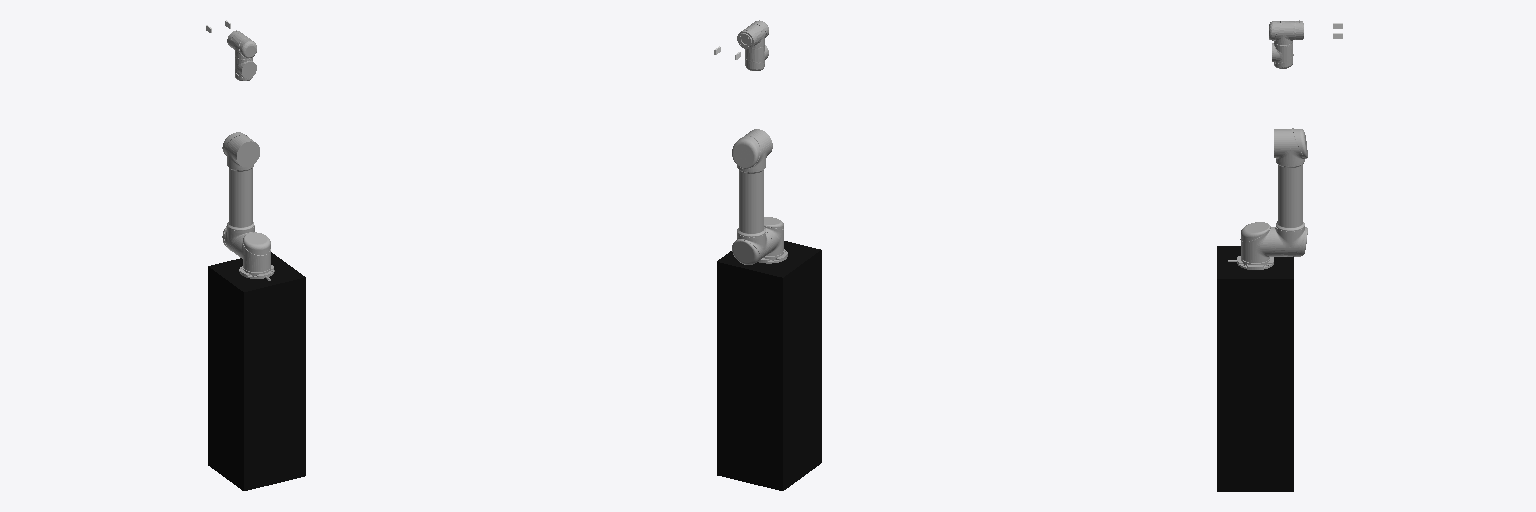
--- Facts derived from the render (not from the file) ---
Views: 3 orthographic renders of the robot side by side, from view 1: azimuth 30°, elevation 25°; view 2: azimuth 150°, elevation 25°; view 3: azimuth 270°, elevation 25°.
Robot: ur5 — 24 links, 23 joints (12 revolute, 11 fixed); root link base_link; default pose: all joints at 0.
Links seen in each view (by area): view 1: pedestal, upper_arm_link, shoulder_link; view 2: pedestal, upper_arm_link, shoulder_link; view 3: pedestal, upper_arm_link, shoulder_link, wrist_2_link.
Boxes of the visible links, x1,y1,x2,y2 form: pedestal: [208, 252, 305, 490]; upper_arm_link: [222, 132, 259, 254]; shoulder_link: [237, 232, 270, 271]; pedestal: [717, 241, 821, 490]; upper_arm_link: [732, 129, 772, 264]; shoulder_link: [764, 217, 783, 255]; pedestal: [1217, 246, 1293, 491]; upper_arm_link: [1274, 128, 1307, 256]; shoulder_link: [1240, 222, 1273, 262]; wrist_2_link: [1269, 21, 1295, 44].
Bounding box of the posed robot: 0.3 × 0.4905 × 1.96 m (x, y, z).
Meshes: 12 distinct files referenced, 7 mesh visuals loaded (7 Collada DAE); not drawn: 9 (reference not matched to a file when rendering).

The robot description file, URDF, robot "ur5":
<?xml version="1.0" ?>
<!-- =================================================================================== -->
<!-- |    This document was autogenerated by xacro from ur5_robot.urdf.xacro           | -->
<!-- |    EDITING THIS FILE BY HAND IS NOT RECOMMENDED                                 | -->
<!-- =================================================================================== -->
<robot name="ur5" xmlns:xacro="http://www.ros.org/wiki/xacro">
  <!-- common stuff -->
  <gazebo>
    <plugin filename="libgazebo_ros_control.so" name="ros_control">
      <!--robotNamespace>/</robotNamespace-->
      <!--robotSimType>gazebo_ros_control/DefaultRobotHWSim</robotSimType-->
    </plugin>
    <!--
    <plugin name="gazebo_ros_power_monitor_controller" filename="libgazebo_ros_power_monitor.so">
      <alwaysOn>true</alwaysOn>
      <updateRate>1.0</updateRate>
      <timeout>5</timeout>
      <powerStateTopic>power_state</powerStateTopic>
      <powerStateRate>10.0</powerStateRate>
      <fullChargeCapacity>87.78</fullChargeCapacity>
      <dischargeRate>-474</dischargeRate>
      <chargeRate>525</chargeRate>
      <dischargeVoltage>15.52</dischargeVoltage>
      <chargeVoltage>16.41</chargeVoltage>
    </plugin>
-->
  </gazebo>
  <!-- ur5 -->
  <!-- Inertia parameters -->
  <!-- This mass might be incorrect -->
  <!-- Kinematic model -->
  <!-- Properties from urcontrol.conf -->
  <!--
    DH for UR5:
    a = [0.00000, -0.42500, -0.39225,  0.00000,  0.00000,  0.0000]
    d = [0.089159,  0.00000,  0.00000,  0.10915,  0.09465,  0.0823]
    alpha = [ 1.570796327, 0, 0, 1.570796327, -1.570796327, 0 ]
    q_home_offset = [0, -1.570796327, 0, -1.570796327, 0, 0]
    joint_direction = [-1, -1, 1, 1, 1, 1]
    mass = [3.7000, 8.3930, 2.2750, 1.2190, 1.2190, 0.1879]
    center_of_mass = [ [0, -0.02561, 0.00193], [0.2125, 0, 0.11336], [0.11993, 0.0, 0.0265], [0, -0.0018, 0.01634], [0, 0.0018,0.01634], [0, 0, -0.001159] ]
  -->
  <!-- Arbitrary offsets for shoulder/elbow joints -->
  <!-- measured from model -->
  <!-- measured from model -->
  <!-- link lengths used in model -->
  <!--property name="shoulder_height" value="0.089159" /-->
  <!--property name="shoulder_offset" value="0.13585" /-->
  <!-- shoulder_offset - elbow_offset + wrist_1_length = 0.10915 -->
  <!--property name="upper_arm_length" value="0.42500" /-->
  <!--property name="elbow_offset" value="0.1197" /-->
  <!-- CAD measured -->
  <!--property name="forearm_length" value="0.39225" /-->
  <!--property name="wrist_1_length" value="0.093" /-->
  <!-- CAD measured -->
  <!--property name="wrist_2_length" value="0.09465" /-->
  <!-- In CAD this distance is 0.930, but in the spec it is 0.09465 -->
  <!--property name="wrist_3_length" value="0.0823" /-->
  <!-- manually measured -->
  <!-- manually measured -->
  <!-- manually measured -->
  <!-- manually measured -->
  <!-- manually measured -->
  <!-- arm -->
  <link name="base_link"/>
  <joint name="robot_base_joint" type="fixed">
    <parent link="base_link"/>
    <child link="robot_base_link"/>
    <origin rpy="0.0 0.0 0.0" xyz="0.0 0.0 0.92"/>
  </joint>

  <link name="pedestal">
    <visual>
      <origin xyz="0 0 0" rpy="0 0 0" />
      <geometry>
        <box size="0.3 0.3 0.92" />
      </geometry>
      <material name="Dark">
        <color rgba="0.1 0.1 0.1 1.0"/>
      </material>
    </visual>
    <collision>
      <origin xyz="0 0 0" rpy="0 0 0" />
      <geometry>
        <box size="0.3 0.3 0.92" />
      </geometry>
    </collision>
  </link>
  <joint name="pedestal_joint" type="fixed">
    <parent link="base_link"/>
    <child link="pedestal"/>
    <origin rpy="0.0 0.0 0.0" xyz="0.0 0.0 0.46"/>
  </joint>

  <link name="robot_base_link">
    <visual>
      <geometry>
        <mesh filename="package://ur5_description/meshes/visual/base.dae"/>
      </geometry>
      <material name="LightGrey">
        <color rgba="0.7 0.7 0.7 1.0"/>
      </material>
    </visual>
    <collision>
      <geometry>
        <mesh filename="package://ur5_description/meshes/collision/base.dae"/>
      </geometry>
    </collision>
    <inertial>
      <mass value="4.0"/>
      <origin rpy="0 0 0" xyz="0.0 0.0 0.0"/>
      <inertia ixx="0.00443333156" ixy="0.0" ixz="0.0" iyy="0.00443333156" iyz="0.0" izz="0.0072"/>
    </inertial>
  </link>
  <joint name="shoulder_pan_joint" type="revolute">
    <parent link="robot_base_link"/>
    <child link="shoulder_link"/>
    <origin rpy="0.0 0.0 0.0" xyz="0.0 0.0 0.089159"/>
    <axis xyz="0 0 1"/>
    <limit effort="150.0" lower="-6.2831853" upper="6.2831853" velocity="3.15"/>
    <dynamics damping="0.0" friction="0.0"/>
  </joint>
  <link name="shoulder_link">
    <visual>
      <geometry>
        <mesh filename="package://ur5_description/meshes/visual/shoulder.dae"/>
      </geometry>
      <material name="LightGrey">
        <color rgba="0.7 0.7 0.7 1.0"/>
      </material>
    </visual>
    <collision>
      <geometry>
        <mesh filename="package://ur5_description/meshes/collision/shoulder.dae"/>
      </geometry>
    </collision>
    <inertial>
      <mass value="3.7"/>
      <origin rpy="0 0 0" xyz="0.0 0.0 0.0"/>
      <inertia ixx="0.010267495893" ixy="0.0" ixz="0.0" iyy="0.010267495893" iyz="0.0" izz="0.00666"/>
    </inertial>
  </link>
  <joint name="shoulder_lift_joint" type="revolute">
    <parent link="shoulder_link"/>
    <child link="upper_arm_link"/>
    <origin rpy="0.0 0.0 0.0" xyz="0.0 0.13585 0.0"/>
    <axis xyz="0 1 0"/>
    <limit effort="150.0" lower="-6.2831853" upper="6.2831853" velocity="3.15"/>
    <dynamics damping="0.0" friction="0.0"/>
  </joint>
  <link name="upper_arm_link">
    <visual>
      <geometry>
        <mesh filename="package://ur5_description/meshes/visual/upperarm.dae"/>
      </geometry>
      <material name="LightGrey">
        <color rgba="0.7 0.7 0.7 1.0"/>
      </material>
    </visual>
    <collision>
      <geometry>
        <mesh filename="package://ur5_description/meshes/collision/upperarm.dae"/>
      </geometry>
    </collision>
    <inertial>
      <mass value="8.393"/>
      <origin rpy="0 0 0" xyz="0.0 0.0 0.28"/>
      <inertia ixx="0.22689067591" ixy="0.0" ixz="0.0" iyy="0.22689067591" iyz="0.0" izz="0.0151074"/>
    </inertial>
  </link>
  <joint name="elbow_joint" type="revolute">
    <parent link="upper_arm_link"/>
    <child link="forearm_link"/>
    <origin rpy="0.0 0.0 0.0" xyz="0.0 -0.1197 0.425"/>
    <axis xyz="0 1 0"/>
    <limit effort="150.0" lower="-6.2831853" upper="6.2831853" velocity="3.15"/>
    <dynamics damping="0.0" friction="0.0"/>
  </joint>
  <link name="forearm_link">
    <visual>
      <geometry>
        <mesh filename="package://ur5_description/meshes/visual/forearm.dae"/>
      </geometry>
      <material name="LightGrey">
        <color rgba="0.7 0.7 0.7 1.0"/>
      </material>
    </visual>
    <collision>
      <geometry>
        <mesh filename="package://ur5_description/meshes/collision/forearm.dae"/>
      </geometry>
    </collision>
    <inertial>
      <mass value="2.275"/>
      <origin rpy="0 0 0" xyz="0.0 0.0 0.25"/>
      <inertia ixx="0.049443313556" ixy="0.0" ixz="0.0" iyy="0.049443313556" iyz="0.0" izz="0.004095"/>
    </inertial>
  </link>
  <joint name="wrist_1_joint" type="revolute">
    <parent link="forearm_link"/>
    <child link="wrist_1_link"/>
    <origin rpy="0.0 0.0 0.0" xyz="0.0 0.0 0.39225"/>
    <axis xyz="0 1 0"/>
    <limit effort="28.0" lower="-6.2831853" upper="6.2831853" velocity="3.2"/>
    <dynamics damping="0.0" friction="0.0"/>
  </joint>
  <link name="wrist_1_link">
    <visual>
      <geometry>
        <mesh filename="package://ur5_description/meshes/visual/wrist1.dae"/>
      </geometry>
      <material name="LightGrey">
        <color rgba="0.7 0.7 0.7 1.0"/>
      </material>
    </visual>
    <collision>
      <geometry>
        <mesh filename="package://ur5_description/meshes/collision/wrist1.dae"/>
      </geometry>
    </collision>
    <inertial>
      <mass value="1.219"/>
      <origin rpy="0 0 0" xyz="0.0 0.0 0.0"/>
      <inertia ixx="0.111172755531" ixy="0.0" ixz="0.0" iyy="0.111172755531" iyz="0.0" izz="0.21942"/>
    </inertial>
  </link>
  <joint name="wrist_2_joint" type="revolute">
    <parent link="wrist_1_link"/>
    <child link="wrist_2_link"/>
    <origin rpy="0.0 0.0 0.0" xyz="0.0 0.093 0.0"/>
    <axis xyz="0 0 1"/>
    <limit effort="28.0" lower="-6.2831853" upper="6.2831853" velocity="3.2"/>
    <dynamics damping="0.0" friction="0.0"/>
  </joint>
  <link name="wrist_2_link">
    <visual>
      <geometry>
        <mesh filename="package://ur5_description/meshes/visual/wrist2.dae"/>
      </geometry>
      <material name="LightGrey">
        <color rgba="0.7 0.7 0.7 1.0"/>
      </material>
    </visual>
    <collision>
      <geometry>
        <mesh filename="package://ur5_description/meshes/collision/wrist2.dae"/>
      </geometry>
    </collision>
    <inertial>
      <mass value="1.219"/>
      <origin rpy="0 0 0" xyz="0.0 0.0 0.0"/>
      <inertia ixx="0.111172755531" ixy="0.0" ixz="0.0" iyy="0.111172755531" iyz="0.0" izz="0.21942"/>
    </inertial>
  </link>
  <joint name="wrist_3_joint" type="revolute">
    <parent link="wrist_2_link"/>
    <child link="wrist_3_link"/>
    <origin rpy="0.0 0.0 0.0" xyz="0.0 0.0 0.09465"/>
    <axis xyz="0 1 0"/>
    <limit effort="28.0" lower="-6.2831853" upper="6.2831853" velocity="3.2"/>
    <dynamics damping="0.0" friction="0.0"/>
  </joint>
  <link name="wrist_3_link">
    <visual>
      <geometry>
        <mesh filename="package://ur5_description/meshes/visual/wrist3.dae"/>
      </geometry>
      <material name="LightGrey">
        <color rgba="0.7 0.7 0.7 1.0"/>
      </material>
    </visual>
    <collision>
      <geometry>
        <mesh filename="package://ur5_description/meshes/collision/wrist3.dae"/>
      </geometry>
    </collision>
    <inertial>
      <mass value="0.1879"/>
      <origin rpy="0 0 0" xyz="0.0 0.0 0.0"/>
      <inertia ixx="0.0171364731454" ixy="0.0" ixz="0.0" iyy="0.0171364731454" iyz="0.0" izz="0.033822"/>
    </inertial>
  </link>
  <joint name="ee_fixed_joint" type="fixed">
    <parent link="wrist_3_link"/>
    <child link="ee_link"/>
    <origin rpy="0.0 0.0 1.570796325" xyz="0.0 0.0823 0.0"/>
  </joint>
  <link name="ee_link">
    <collision>
      <geometry>
        <box size="0.01 0.01 0.01"/>
      </geometry>
      <origin rpy="0 0 0" xyz="-0.01 0 0"/>
    </collision>
  </link>
  <transmission name="shoulder_pan_trans">
    <type>transmission_interface/SimpleTransmission</type>
    <joint name="shoulder_pan_joint">
      <hardwareInterface>PositionJointInterface</hardwareInterface>
    </joint>
    <actuator name="shoulder_pan_motor">
      <mechanicalReduction>1</mechanicalReduction>
    </actuator>
  </transmission>
  <transmission name="shoulder_lift_trans">
    <type>transmission_interface/SimpleTransmission</type>
    <joint name="shoulder_lift_joint">
      <hardwareInterface>PositionJointInterface</hardwareInterface>
    </joint>
    <actuator name="shoulder_lift_motor">
      <mechanicalReduction>1</mechanicalReduction>
    </actuator>
  </transmission>
  <transmission name="elbow_trans">
    <type>transmission_interface/SimpleTransmission</type>
    <joint name="elbow_joint">
      <hardwareInterface>PositionJointInterface</hardwareInterface>
    </joint>
    <actuator name="elbow_motor">
      <mechanicalReduction>1</mechanicalReduction>
    </actuator>
  </transmission>
  <transmission name="wrist_1_trans">
    <type>transmission_interface/SimpleTransmission</type>
    <joint name="wrist_1_joint">
      <hardwareInterface>PositionJointInterface</hardwareInterface>
    </joint>
    <actuator name="wrist_1_motor">
      <mechanicalReduction>1</mechanicalReduction>
    </actuator>
  </transmission>
  <transmission name="wrist_2_trans">
    <type>transmission_interface/SimpleTransmission</type>
    <joint name="wrist_2_joint">
      <hardwareInterface>PositionJointInterface</hardwareInterface>
    </joint>
    <actuator name="wrist_2_motor">
      <mechanicalReduction>1</mechanicalReduction>
    </actuator>
  </transmission>
  <transmission name="wrist_3_trans">
    <type>transmission_interface/SimpleTransmission</type>
    <joint name="wrist_3_joint">
      <hardwareInterface>PositionJointInterface</hardwareInterface>
    </joint>
    <actuator name="wrist_3_motor">
      <mechanicalReduction>1</mechanicalReduction>
    </actuator>
  </transmission>
  <!-- nothing to do here at the moment -->
  <!-- ROS base_link to UR 'Base' Coordinates transform -->
  <link name="base"/>
  <joint name="base_link-base_fixed_joint" type="fixed">
    <!-- NOTE: this rotation is only needed as long as base_link itself is
                 not corrected wrt the real robot (ie: rotated over 180
                 degrees)
      -->
    <origin rpy="0 0 -3.14159265359" xyz="0 0 0"/>
    <parent link="base_link"/>
    <child link="base"/>
  </joint>
  <!-- Frame coincident with all-zeros TCP on UR controller -->
  <link name="tool0"/>
  <joint name="wrist_3_link-tool0_fixed_joint" type="fixed">
    <origin rpy="-1.570796325 0 0" xyz="0 0.0823 0"/>
    <parent link="wrist_3_link"/>
    <child link="tool0"/>
  </joint>
    <link name="robotiq_arg2f_base_link">
    <inertial>
      <origin rpy="0 0 0" xyz="8.625E-08 -4.6583E-06 0.03145"/>
      <mass value="0.22652"/>
      <inertia ixx="0.00020005" ixy="-4.2442E-10" ixz="-2.9069E-10" iyy="0.00017832" iyz="-3.4402E-08" izz="0.00013478"/>
    </inertial>
    <visual>
      <origin rpy="0 0 0" xyz="0 0 0"/>
      <geometry>
        <mesh filename="package://ur5_description/meshes/visual/robotiq_arg2f_85_base_link.dae" scale="0.001 0.001 0.001"/>
      </geometry>
      <material name="">
        <color rgba="0.1 0.1 0.1 1"/>
      </material>
    </visual>
    <collision>
      <origin rpy="0 0 0" xyz="0 0 0"/>
      <geometry>
        <mesh filename="package://ur5_description/meshes/collision/robotiq_arg2f_base_link.dae"/>
      </geometry>
    </collision>
  </link>
  <link name="left_outer_knuckle">
    <!--<inertial>
        <origin xyz="-0.000200000000003065 0.0199435877845359 0.0292245259211331" rpy="0 0 0" />
        <mass value="0.00853198276973456" />
        <inertia ixx="2.89328108496468E-06" ixy="-1.57935047237397E-19" ixz="-1.93980378593255E-19" iyy="1.86719750325683E-06" iyz="-1.21858577871576E-06" izz="1.21905238907251E-06" />
        </inertial> -->
    <visual>
      <origin rpy="0 0 0" xyz="0 0 0"/>
      <geometry>
        <mesh filename="package://ur5_description/meshes/visual/robotiq_arg2f_85_outer_knuckle.dae" scale="0.001 0.001 0.001"/>
      </geometry>
      <material name="">
        <color rgba="0.792156862745098 0.819607843137255 0.933333333333333 1"/>
      </material>
    </visual>
    <collision>
      <origin rpy="0 0 0" xyz="0 0 0"/>
      <geometry>
        <mesh filename="package://ur5_description/meshes/collision/robotiq_arg2f_85_outer_knuckle.dae" scale="0.001 0.001 0.001"/>
      </geometry>
    </collision>
  </link>
  <link name="left_outer_finger">
    <!--<inertial>
        <origin xyz="0.00030115855001899 0.0373907951953854 -0.0208027427000385" rpy="0 0 0" />
        <mass value="0.022614240507152" />
        <inertia ixx="1.52518312458174E-05" ixy="9.76583423954399E-10" ixz="-5.43838577022588E-10" iyy="6.17694243867776E-06" iyz="6.78636130740228E-06" izz="1.16494917907219E-05" />
        </inertial> -->
    <visual>
      <origin rpy="0 0 0" xyz="0 0 0"/>
      <geometry>
        <mesh filename="package://ur5_description/meshes/visual/robotiq_arg2f_85_outer_finger.dae" scale="0.001 0.001 0.001"/>
      </geometry>
      <material name="">
        <color rgba="0.1 0.1 0.1 1"/>
      </material>
    </visual>
    <collision>
      <origin rpy="0 0 0" xyz="0 0 0"/>
      <geometry>
        <mesh filename="package://ur5_description/meshes/collision/robotiq_arg2f_85_outer_finger.dae" scale="0.001 0.001 0.001"/>
      </geometry>
    </collision>
  </link>
  <link name="left_inner_finger">
    <!--<inertial>
        <origin xyz="0.000299999999999317 0.0160078233491243 -0.0136945669206257" rpy="0 0 0" />
        <mass value="0.0104003125914103" />
        <inertia ixx="2.71909453810972E-06" ixy="1.35402465472579E-21" ixz="-7.1817349065269E-22" iyy="7.69100314106116E-07" iyz="6.74715432769696E-07" izz="2.30315190420171E-06" />
        </inertial> -->
    <visual>
      <origin rpy="0 0 0" xyz="0 0 0"/>
      <geometry>
        <mesh filename="package://ur5_description/meshes/visual/robotiq_arg2f_85_inner_finger.dae" scale="0.001 0.001 0.001"/>
      </geometry>
      <material name="">
        <color rgba="0.1 0.1 0.1 1"/>
      </material>
    </visual>
    <collision>
      <origin rpy="0 0 0" xyz="0 0 0"/>
      <geometry>
        <mesh filename="package://ur5_description/meshes/collision/robotiq_arg2f_85_inner_finger.dae" scale="0.001 0.001 0.001"/>
      </geometry>
    </collision>
  </link>
  <link name="left_inner_finger_pad">
    <visual>
      <origin rpy="0 0 0" xyz="0 0 0"/>
      <geometry>
        <box size="0.022 0.00635 0.0375"/>
      </geometry>
      <material name="">
        <color rgba="0.9 0.9 0.9 1"/>
      </material>
    </visual>
    <collision>
      <origin rpy="0 0 0" xyz="0 0 0"/>
      <geometry>
        <box size="0.022 0.00635 0.0375"/>
      </geometry>
      <material name="">
        <color rgba="0.9 0.0 0.0 1"/>
      </material>
    </collision>
  </link>
  <link name="left_inner_knuckle">
    <!--<inertial>
        <origin xyz="0.000123011831763771 0.0507850843201817 0.00103968640075166" rpy="0 0 0" />
       <mass value="0.0271177346495152" />
        <inertia ixx="2.61910379223783E-05" ixy="-2.43616858946494E-07" ixz="-6.37789906117123E-09" iyy="2.8270243746167E-06" iyz="-5.37200748039765E-07" izz="2.83695868220296E-05" />
        </inertial> -->
    <visual>
      <origin rpy="0 0 0" xyz="0 0 0"/>
      <geometry>
        <mesh filename="package://ur5_description/meshes/visual/robotiq_arg2f_85_inner_knuckle.dae" scale="0.001 0.001 0.001"/>
      </geometry>
      <material name="">
        <color rgba="0.1 0.1 0.1 1"/>
      </material>
    </visual>
    <collision>
      <origin rpy="0 0 0" xyz="0 0 0"/>
      <geometry>
        <mesh filename="package://ur5_description/meshes/collision/robotiq_arg2f_85_inner_knuckle.dae" scale="0.001 0.001 0.001"/>
      </geometry>
    </collision>
  </link>
  <link name="right_outer_knuckle">
    <!--<inertial>
        <origin xyz="-0.000200000000003065 0.0199435877845359 0.0292245259211331" rpy="0 0 0" />
        <mass value="0.00853198276973456" />
        <inertia ixx="2.89328108496468E-06" ixy="-1.57935047237397E-19" ixz="-1.93980378593255E-19" iyy="1.86719750325683E-06" iyz="-1.21858577871576E-06" izz="1.21905238907251E-06" />
        </inertial> -->
    <visual>
      <origin rpy="0 0 0" xyz="0 0 0"/>
      <geometry>
        <mesh filename="package://ur5_description/meshes/visual/robotiq_arg2f_85_outer_knuckle.dae" scale="0.001 0.001 0.001"/>
      </geometry>
      <material name="">
        <color rgba="0.792156862745098 0.819607843137255 0.933333333333333 1"/>
      </material>
    </visual>
    <collision>
      <origin rpy="0 0 0" xyz="0 0 0"/>
      <geometry>
        <mesh filename="package://ur5_description/meshes/collision/robotiq_arg2f_85_outer_knuckle.dae" scale="0.001 0.001 0.001"/>
      </geometry>
    </collision>
  </link>
  <link name="right_outer_finger">
    <!--<inertial>
        <origin xyz="0.00030115855001899 0.0373907951953854 -0.0208027427000385" rpy="0 0 0" />
        <mass value="0.022614240507152" />
        <inertia ixx="1.52518312458174E-05" ixy="9.76583423954399E-10" ixz="-5.43838577022588E-10" iyy="6.17694243867776E-06" iyz="6.78636130740228E-06" izz="1.16494917907219E-05" />
        </inertial> -->
    <visual>
      <origin rpy="0 0 0" xyz="0 0 0"/>
      <geometry>
        <mesh filename="package://ur5_description/meshes/visual/robotiq_arg2f_85_outer_finger.dae" scale="0.001 0.001 0.001"/>
      </geometry>
      <material name="">
        <color rgba="0.1 0.1 0.1 1"/>
      </material>
    </visual>
    <collision>
      <origin rpy="0 0 0" xyz="0 0 0"/>
      <geometry>
        <mesh filename="package://ur5_description/meshes/collision/robotiq_arg2f_85_outer_finger.dae" scale="0.001 0.001 0.001"/>
      </geometry>
    </collision>
  </link>
  <link name="right_inner_finger">
    <!--<inertial>
        <origin xyz="0.000299999999999317 0.0160078233491243 -0.0136945669206257" rpy="0 0 0" />
        <mass value="0.0104003125914103" />
        <inertia ixx="2.71909453810972E-06" ixy="1.35402465472579E-21" ixz="-7.1817349065269E-22" iyy="7.69100314106116E-07" iyz="6.74715432769696E-07" izz="2.30315190420171E-06" />
        </inertial> -->
    <visual>
      <origin rpy="0 0 0" xyz="0 0 0"/>
      <geometry>
        <mesh filename="package://ur5_description/meshes/visual/robotiq_arg2f_85_inner_finger.dae" scale="0.001 0.001 0.001"/>
      </geometry>
      <material name="">
        <color rgba="0.1 0.1 0.1 1"/>
      </material>
    </visual>
    <collision>
      <origin rpy="0 0 0" xyz="0 0 0"/>
      <geometry>
        <mesh filename="package://ur5_description/meshes/collision/robotiq_arg2f_85_inner_finger.dae" scale="0.001 0.001 0.001"/>
      </geometry>
    </collision>
  </link>
  <link name="right_inner_finger_pad">
    <visual>
      <origin rpy="0 0 0" xyz="0 0 0"/>
      <geometry>
        <box size="0.022 0.00635 0.0375"/>
      </geometry>
      <material name="">
        <color rgba="0.9 0.9 0.9 1"/>
      </material>
    </visual>
    <collision>
      <origin rpy="0 0 0" xyz="0 0 0"/>
      <geometry>
        <box size="0.022 0.00635 0.0375"/>
      </geometry>
      <material name="">
        <color rgba="0.9 0.0 0.0 1"/>
      </material>
    </collision>
  </link>
  <link name="right_inner_knuckle">
    <!--<inertial>
        <origin xyz="0.000123011831763771 0.0507850843201817 0.00103968640075166" rpy="0 0 0" />
       <mass value="0.0271177346495152" />
        <inertia ixx="2.61910379223783E-05" ixy="-2.43616858946494E-07" ixz="-6.37789906117123E-09" iyy="2.8270243746167E-06" iyz="-5.37200748039765E-07" izz="2.83695868220296E-05" />
        </inertial> -->
    <visual>
      <origin rpy="0 0 0" xyz="0 0 0"/>
      <geometry>
        <mesh filename="package://ur5_description/meshes/visual/robotiq_arg2f_85_inner_knuckle.dae" scale="0.001 0.001 0.001"/>
      </geometry>
      <material name="">
        <color rgba="0.1 0.1 0.1 1"/>
      </material>
    </visual>
    <collision>
      <origin rpy="0 0 0" xyz="0 0 0"/>
      <geometry>
        <mesh filename="package://ur5_description/meshes/collision/robotiq_arg2f_85_inner_knuckle.dae" scale="0.001 0.001 0.001"/>
      </geometry>
    </collision>
  </link>
  <joint name="finger_joint" type="revolute">
    <origin rpy="0 0 3.14159265359" xyz="0 -0.0306011 0.054904"/>
    <parent link="robotiq_arg2f_base_link"/>
    <child link="left_outer_knuckle"/>
    <axis xyz="1 0 0"/>
    <limit effort="1000" lower="0" upper="0.8" velocity="2.0"/>
  </joint>
  <joint name="left_outer_finger_joint" type="fixed">
    <origin rpy="0 0 0" xyz="0 0.0315 -0.0041"/>
    <parent link="left_outer_knuckle"/>
    <child link="left_outer_finger"/>
    <axis xyz="1 0 0"/>
  </joint>
  <joint name="left_inner_knuckle_joint" type="revolute">
    <!-- <origin xyz="0 ${reflect * -0.0127} 0.06142" rpy="${pi / 2 + .725} 0 ${(reflect - 1) * pi / 2}" /> -->
    <origin rpy="0 0 3.14159265359" xyz="0 -0.0127 0.06142"/>
    <parent link="robotiq_arg2f_base_link"/>
    <child link="left_inner_knuckle"/>
    <axis xyz="1 0 0"/>
    <limit effort="1000" lower="0" upper="0.8757" velocity="2.0"/>
    <mimic joint="finger_joint" multiplier="1" offset="0"/>
  </joint>
  <joint name="left_inner_finger_joint" type="revolute">
    <origin rpy="0 0 0" xyz="0 0.0061 0.0471"/>
    <parent link="left_outer_finger"/>
    <child link="left_inner_finger"/>
    <axis xyz="1 0 0"/>
    <limit effort="1000" lower="-0.8757" upper="0" velocity="2.0"/>
    <mimic joint="finger_joint" multiplier="-1" offset="0"/>
  </joint>
  <joint name="left_inner_finger_pad_joint" type="fixed">
    <origin rpy="0 0 0" xyz="0 -0.0220203446692936 0.03242"/>
    <parent link="left_inner_finger"/>
    <child link="left_inner_finger_pad"/>
    <axis xyz="0 0 1"/>
  </joint>
  <joint name="right_outer_knuckle_joint" type="revolute">
    <origin rpy="0 0 0" xyz="0 0.0306011 0.054904"/>
    <parent link="robotiq_arg2f_base_link"/>
    <child link="right_outer_knuckle"/>
    <axis xyz="1 0 0"/>
    <limit effort="1000" lower="0" upper="0.81" velocity="2.0"/>
    <mimic joint="finger_joint" multiplier="1" offset="0"/>
  </joint>
  <joint name="right_outer_finger_joint" type="fixed">
    <origin rpy="0 0 0" xyz="0 0.0315 -0.0041"/>
    <parent link="right_outer_knuckle"/>
    <child link="right_outer_finger"/>
    <axis xyz="1 0 0"/>
  </joint>
  <joint name="right_inner_knuckle_joint" type="revolute">
    <!-- <origin xyz="0 ${reflect * -0.0127} 0.06142" rpy="${pi / 2 + .725} 0 ${(reflect - 1) * pi / 2}" /> -->
    <origin rpy="0 0 0.0" xyz="0 0.0127 0.06142"/>
    <parent link="robotiq_arg2f_base_link"/>
    <child link="right_inner_knuckle"/>
    <axis xyz="1 0 0"/>
    <limit effort="1000" lower="0" upper="0.8757" velocity="2.0"/>
    <mimic joint="finger_joint" multiplier="1" offset="0"/>
  </joint>
  <joint name="right_inner_finger_joint" type="revolute">
    <origin rpy="0 0 0" xyz="0 0.0061 0.0471"/>
    <parent link="right_outer_finger"/>
    <child link="right_inner_finger"/>
    <axis xyz="1 0 0"/>
    <limit effort="1000" lower="-0.8757" upper="0" velocity="2.0"/>
    <mimic joint="finger_joint" multiplier="-1" offset="0"/>
  </joint>
  <joint name="right_inner_finger_pad_joint" type="fixed">
    <origin rpy="0 0 0" xyz="0 -0.0220203446692936 0.03242"/>
    <parent link="right_inner_finger"/>
    <child link="right_inner_finger_pad"/>
    <axis xyz="0 0 1"/>
  </joint>
  <transmission name="finger_joint_trans">
    <type>transmission_interface/SimpleTransmission</type>
    <joint name="finger_joint">
      <hardwareInterface>PositionJointInterface</hardwareInterface>
    </joint>
    <actuator name="finger_joint_motor">
      <mechanicalReduction>1</mechanicalReduction>
    </actuator>
  </transmission>
  <joint name="ur5_ee_link-gripper_base" type="fixed">
    <parent link="ee_link"/>
    <child link="robotiq_arg2f_base_link"/>
    <origin rpy="0.0 1.57079632679 0.0" xyz=" 0.0 0.0 0.0"/>
  </joint>
  <link name="finger_tip"/>
  <joint name="finger_tip_joint" type="fixed">
    <parent link="wrist_3_link"/>
    <child link="finger_tip"/>
    <origin rpy="-1.57079632679 0.0 0.0" xyz=" 0.0 0.2323 0.0"/>
  </joint>
</robot>
